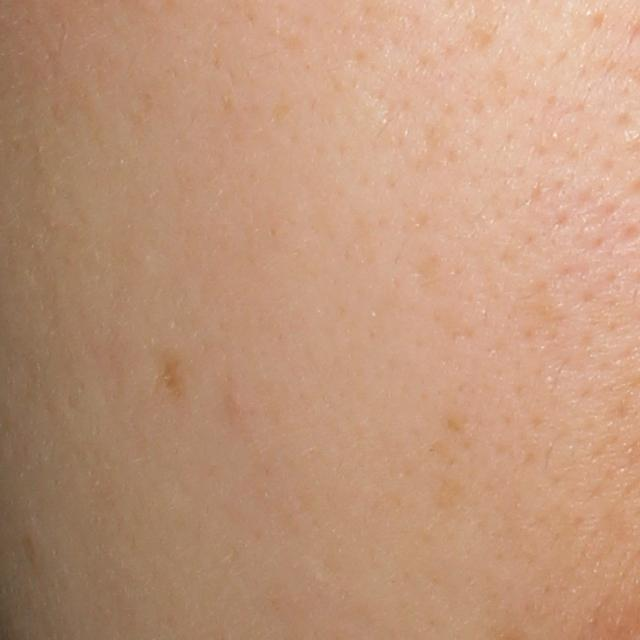melasma: (150, 345, 193, 408)
